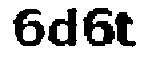6: (9, 7, 48, 47), (83, 4, 115, 49)
d: (47, 6, 78, 51)
t: (114, 6, 140, 48)
